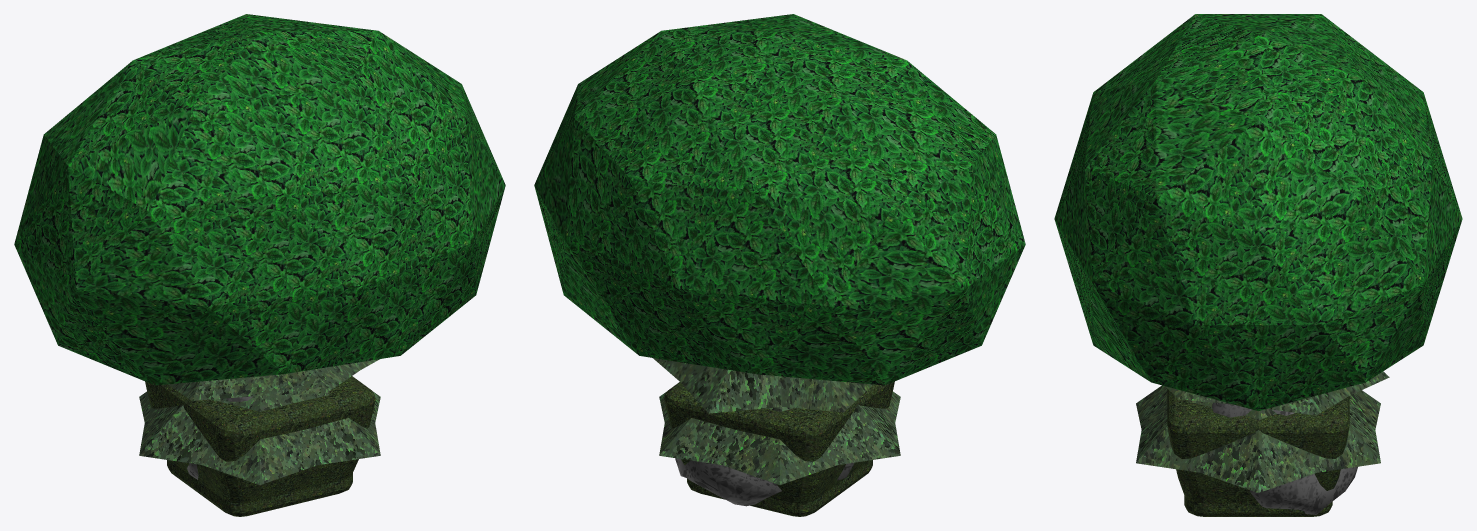
Rendered from feature_tiles.glb.
The picture shows the model from 3 angles, left to right: view 1: azimuth 30°, elevation 25°; view 2: azimuth 150°, elevation 25°; view 3: azimuth 270°, elevation 25°; orthographic projection.
Parts seen in each view (by area): view 1: Cylinder, evergreen_tree, leafy_bush; view 2: Cylinder, evergreen_tree, leafy_bush, rock; view 3: Cylinder, evergreen_tree, leafy_bush, rock.
Boxes of the visible parts, left/top/right/bottom form: Cylinder: left=14, top=14, right=505, bottom=385; evergreen_tree: left=139, top=359, right=380, bottom=484; leafy_bush: left=145, top=376, right=375, bottom=516; Cylinder: left=534, top=14, right=1025, bottom=385; evergreen_tree: left=653, top=358, right=900, bottom=484; leafy_bush: left=664, top=381, right=894, bottom=516; rock: left=675, top=458, right=854, bottom=506; Cylinder: left=1054, top=14, right=1462, bottom=410; evergreen_tree: left=1136, top=371, right=1389, bottom=492; leafy_bush: left=1167, top=389, right=1349, bottom=516; rock: left=1212, top=402, right=1357, bottom=514.
Size of what is drawn, in the model's own units: 5.43 by 5.51 by 4.41.
15 materials, 10 textured.
